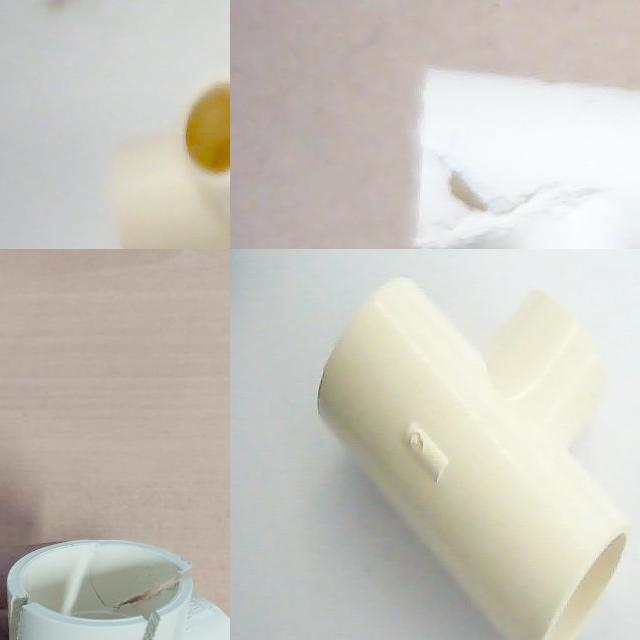Defective: (143, 551, 230, 621), (1, 594, 70, 640), (111, 607, 198, 640)
T Joint: (315, 278, 630, 640), (416, 68, 640, 249), (111, 72, 230, 249)
